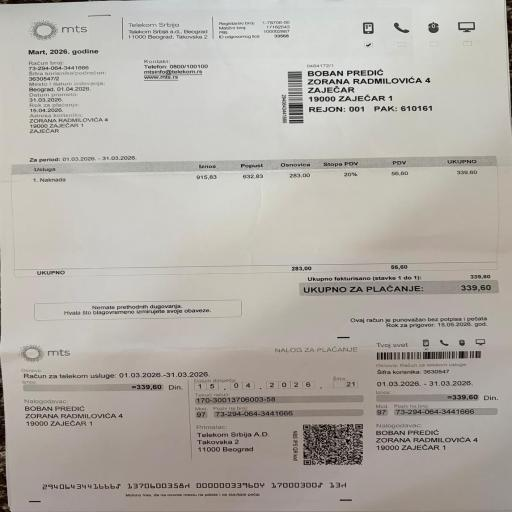mts: (26, 156, 498, 184)
mts_iznos: (300, 282, 502, 294)
mts_uplatnica: (374, 378, 508, 421)
